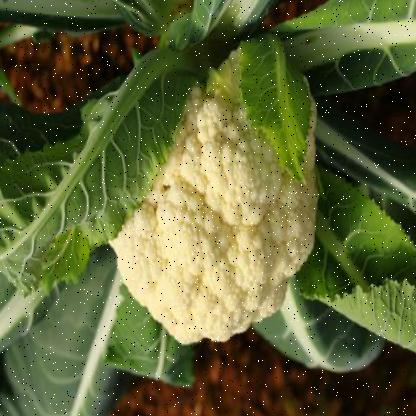cauliflower: (101, 44, 334, 351)
